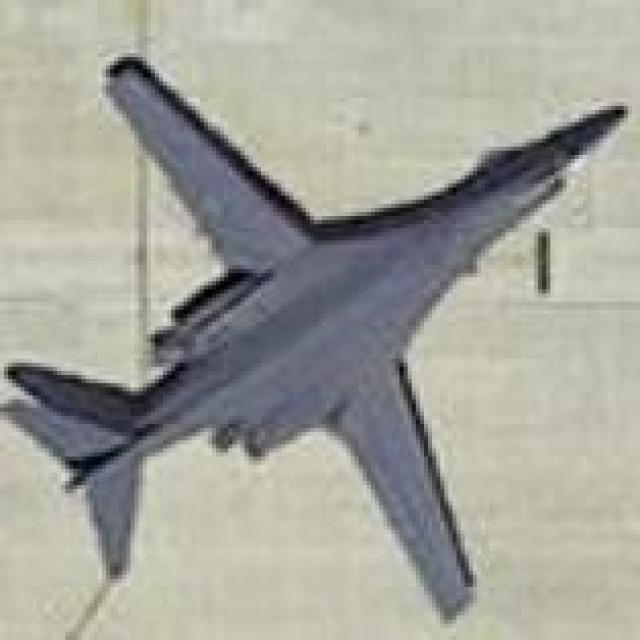B-1_TopDown: (0, 49, 628, 624)
